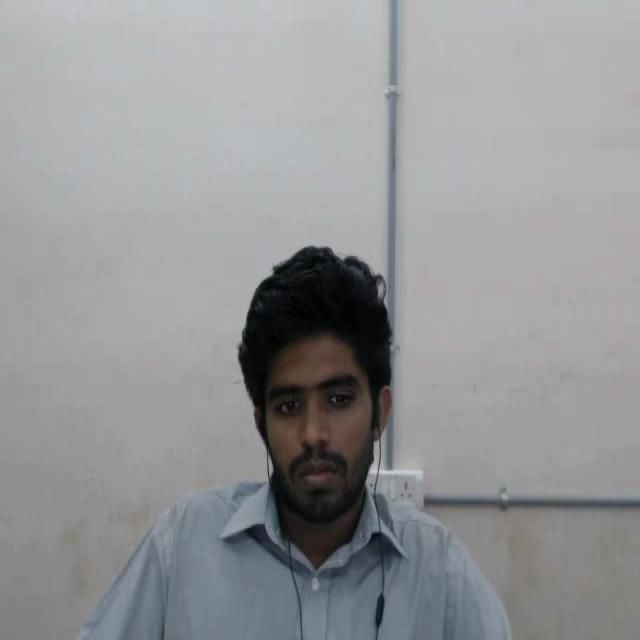Engaged: (212, 204, 440, 569)
